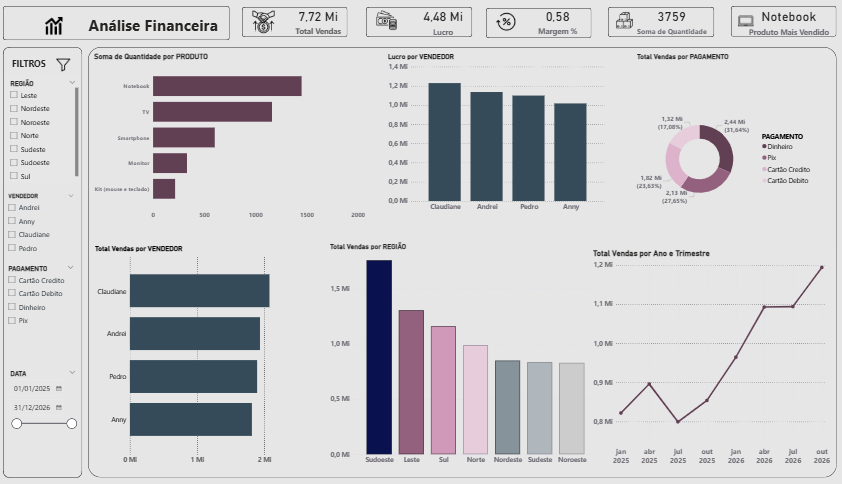

What the dashboard file says about the page in this screenshot:
{"tool":"powerbi","page":{"name":"Dashboard","canvas":[2068,1200],"ordinal":0},"visuals":[{"type":"shape","box":[223.7,118.4,1826.3,1050],"z":0},{"type":"donutChart","fields":{"Category":["Vendas.PAGAMENTO"],"Y":["Vendas.Total Vendas"]},"box":[1558.8,132.4,441.2,502.9],"z":500},{"type":"shape","box":[17.3,118.7,193.3,1050.7],"z":3000},{"type":"shape","box":[1492.9,21.4,258.9,73.2],"z":4000},{"type":"card","fields":{"Values":["Vendas.Lucro"]},"box":[907.1,10.7,366.1,91.1],"z":5000},{"type":"card","fields":{"Values":["Vendas.Margem %"]},"box":[1207.1,1.8,325,105.4],"z":6000},{"type":"lineClusteredColumnComboChart","fields":{"Category":["Vendas.VENDEDOR"],"Y":["Vendas.Lucro"]},"box":[951.5,132.4,538.2,398.5],"z":7000},{"type":"shape","box":[1194.6,23.2,257.1,73.2],"z":8000},{"type":"shape","box":[600,21.4,257.1,73.2],"z":9000},{"type":"shape","box":[16.7,19.4,552.8,83.3],"z":10000},{"type":"card","fields":{"Values":["Vendas.Total Vendas"]},"box":[619.6,7.1,332.1,94.6],"z":11000},{"type":"lineChart","fields":{"Category":["Vendas.DATA.Variation.Hierarquia de datas.Ano","Vendas.DATA.Variation.Hierarquia de datas.Trimestre","Vendas.DATA.Variation.Hierarquia de datas.Mês","Vendas.DATA.Variation.Hierarquia de datas.Dia"],"Y":["Vendas.Total Vendas"]},"box":[1451.1,612.8,600,534],"z":12000},{"type":"barChart","fields":{"Category":["Vendas.PRODUTO"],"Y":["Sum(Vendas.QTD)"]},"box":[235.3,130.9,670.6,417.6],"z":13000},{"type":"columnChart","fields":{"Category":["Vendas.REGIÃO"],"Y":["Vendas.Total Vendas"]},"box":[810.5,594.7,663.2,552.6],"z":14000},{"type":"barChart","fields":{"Category":["Vendas.VENDEDOR"],"Y":["Vendas.Total Vendas"]},"box":[236.8,600,528.9,547.4],"z":15000},{"type":"slicer","fields":{"Values":["Vendas.REGIÃO"]},"box":[22.7,192,184,258.7],"z":16000},{"type":"slicer","fields":{"Values":["Vendas.VENDEDOR"]},"box":[17.9,471.8,184.6,241],"z":17000},{"type":"slicer","fields":{"Values":["Vendas.PAGAMENTO"]},"box":[17.9,643.6,184.6,238.5],"z":18000},{"type":"slicer","fields":{"Values":["Vendas.DATA"]},"box":[22.7,900,184,186.7],"z":19000},{"type":"card","fields":{"Values":["Sum(Vendas.QTD)"]},"box":[1543.2,0,208.8,110.4],"z":20000},{"type":"textbox","box":[33.3,141.7,248.8,66.7],"z":21000},{"type":"image","box":[133.3,141.7,59.5,44],"z":22000},{"type":"image","box":[83.3,30.6,116.7,72.2],"z":23000},{"type":"textbox","box":[100,35.7,566.7,106],"z":24000},{"type":"image","box":[921.4,25,60.7,58.9],"z":25000},{"type":"image","box":[1506.2,21,50.6,65.4],"z":26000},{"type":"image","box":[1142.9,28.6,198.2,57.1],"z":27000},{"type":"image","box":[619.6,19.6,66.1,78.6],"z":28000},{"type":"shape","box":[903.6,21.4,258.9,73.2],"z":29000},{"type":"shape","box":[1792.9,19.6,257.1,75],"z":30000},{"type":"card","fields":{"Values":["Vendas.Produto Mais Vendido"]},"box":[1828.6,0,208.9,110.7],"z":31000},{"type":"image","box":[1792.9,32.1,71.4,48.2],"z":32000}]}

Visuals, with their boxes in screenshot pixels (x1, y1, x2, y2), scaled from the page's 2068x1200 canvas onto the 842x484 screenshot:
shape: 91:48:835:471
donutChart - Vendas.PAGAMENTO x Vendas.Total Vendas: 635:53:814:256
shape: 7:48:86:472
shape: 608:9:713:38
card - Vendas.Lucro: 369:4:518:41
card - Vendas.Margem %: 491:1:624:43
lineClusteredColumnComboChart - Vendas.VENDEDOR x Vendas.Lucro: 387:53:607:214
shape: 486:9:591:39
shape: 244:9:349:38
shape: 7:8:232:41
card - Vendas.Total Vendas: 252:3:387:41
lineChart - Vendas.DATA.Variation.Hierarquia de datas.Ano x Vendas.DATA.Variation.Hierarquia de datas.Trimestre: 591:247:835:463
barChart - Vendas.PRODUTO x Sum(Vendas.QTD): 96:53:369:221
columnChart - Vendas.REGIÃO x Vendas.Total Vendas: 330:240:600:463
barChart - Vendas.VENDEDOR x Vendas.Total Vendas: 96:242:312:463
slicer - Vendas.REGIÃO: 9:77:84:182
slicer - Vendas.VENDEDOR: 7:190:82:287
slicer - Vendas.PAGAMENTO: 7:260:82:356
slicer - Vendas.DATA: 9:363:84:438
card - Sum(Vendas.QTD): 628:0:713:45
textbox: 14:57:115:84
image: 54:57:78:75
image: 34:12:81:41
textbox: 41:14:271:57
image: 375:10:400:34
image: 613:8:634:35
image: 465:12:546:35
image: 252:8:279:40
shape: 368:9:473:38
shape: 730:8:835:38
card - Vendas.Produto Mais Vendido: 745:0:830:45
image: 730:13:759:32
